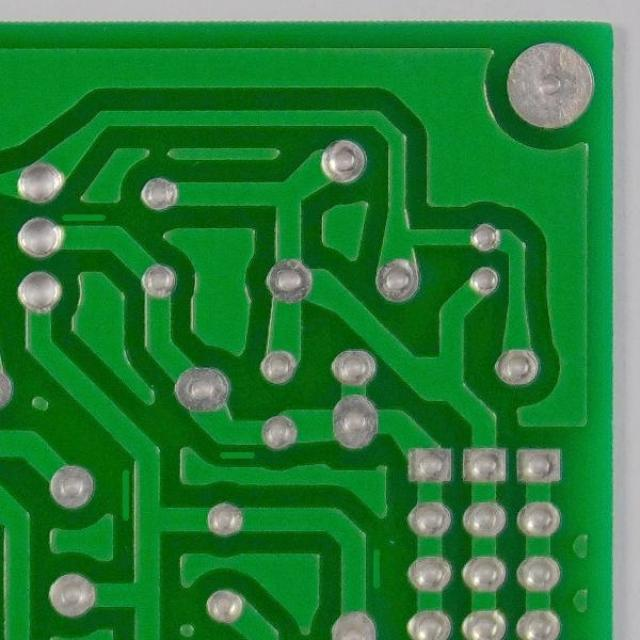spurious_copper: (111, 464, 136, 524), (59, 207, 108, 229), (366, 542, 385, 592), (214, 443, 257, 465)
